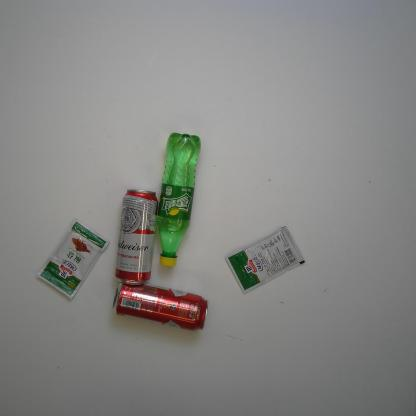Alcohol: (112, 280, 209, 332), (115, 189, 159, 285)
Drink: (155, 131, 202, 268)
Seasoner: (36, 217, 110, 300), (225, 226, 306, 295)
